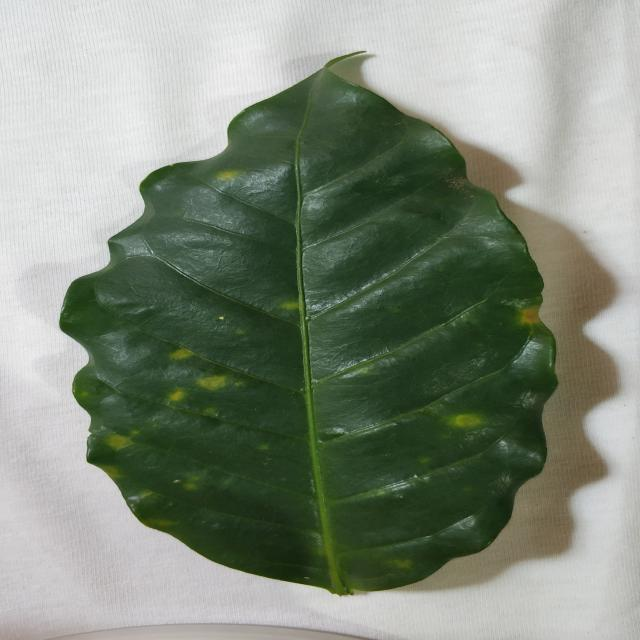Enfermedad-Roya: (57, 53, 560, 598)
